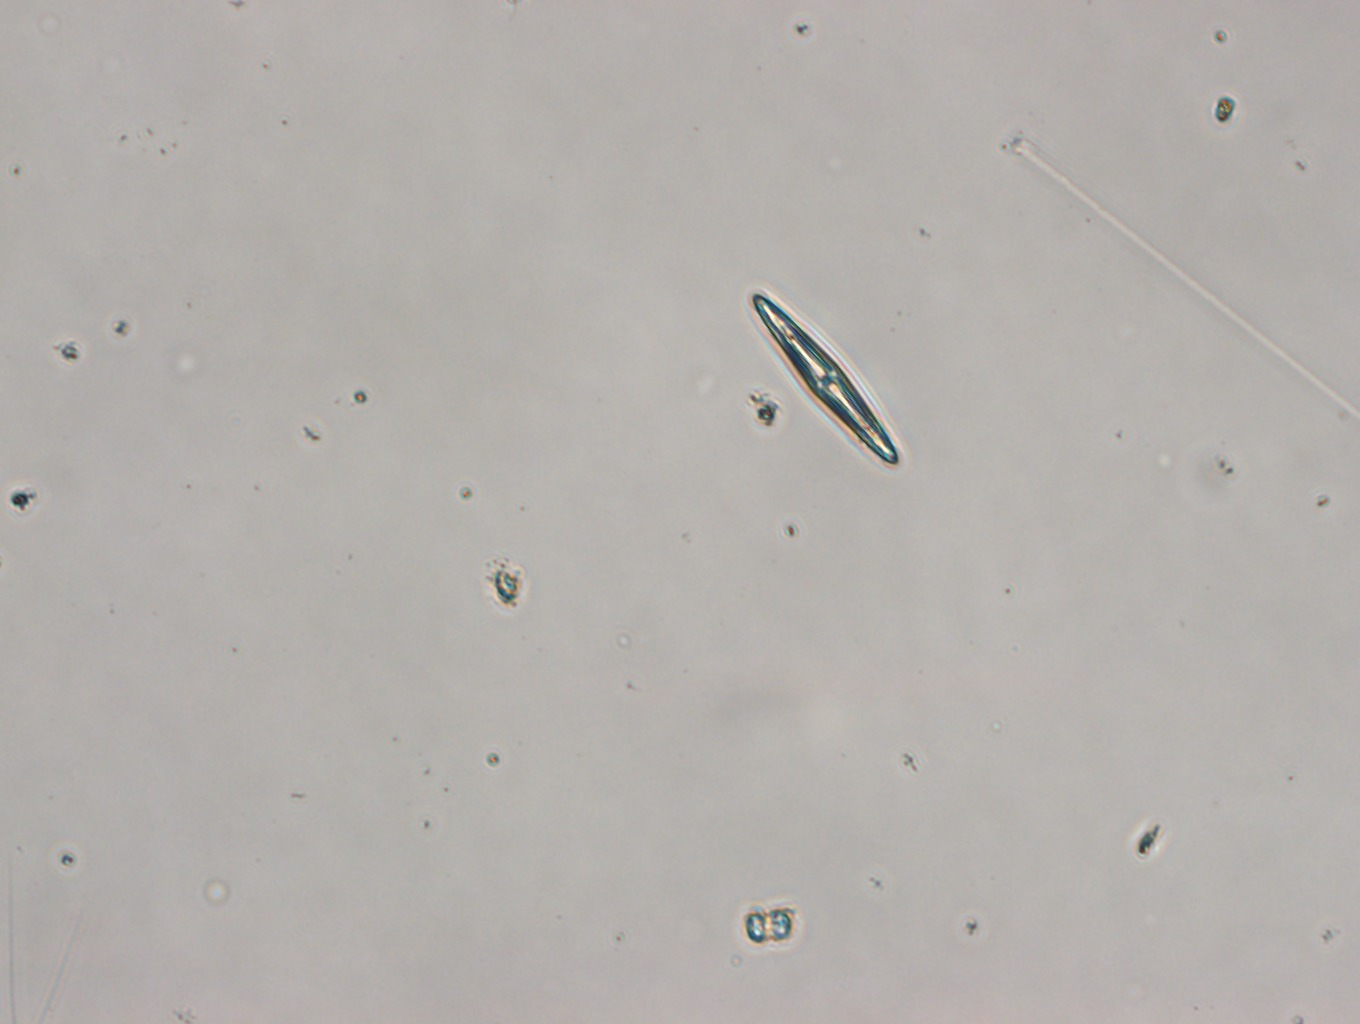navicula: (745, 284, 903, 473)
